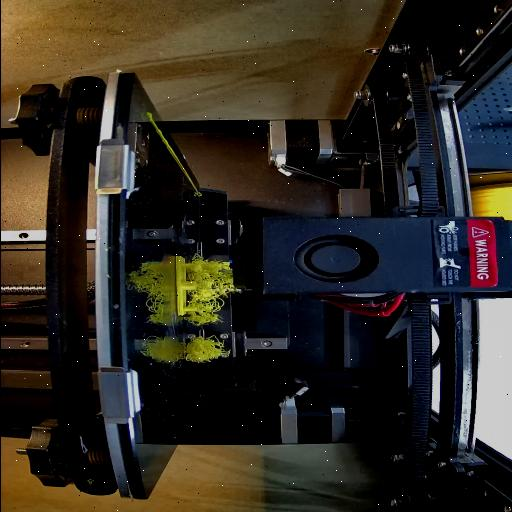spaghetti: (188, 256, 236, 326), (184, 337, 230, 367)
